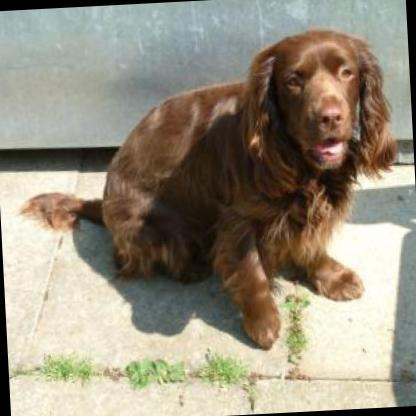Sussex_spaniel: (6, 21, 409, 363)
